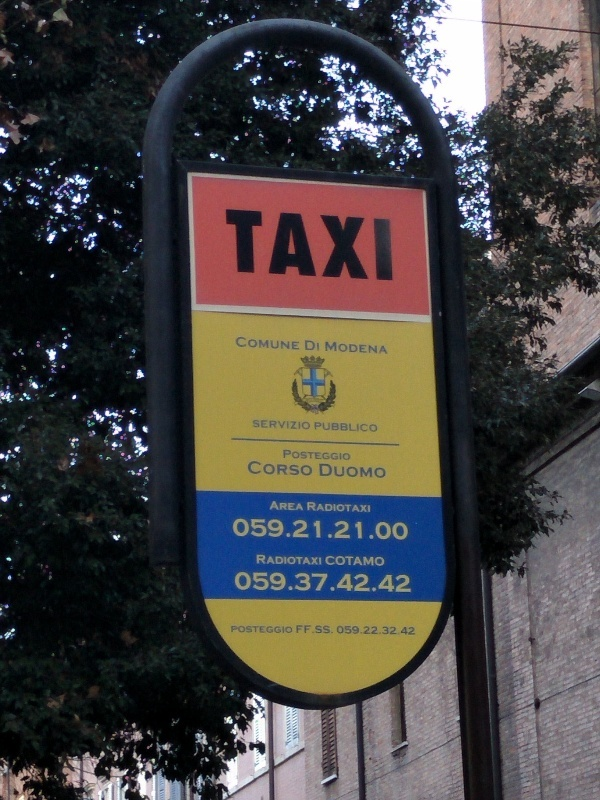text: (225, 209, 240, 283), (241, 209, 256, 283), (257, 209, 272, 283), (273, 209, 288, 283), (289, 209, 304, 283), (305, 209, 320, 283), (321, 209, 336, 283), (337, 209, 352, 283), (353, 209, 368, 283), (369, 209, 384, 283), (385, 209, 393, 283), (241, 517, 256, 541), (257, 517, 272, 541), (273, 517, 288, 541), (289, 517, 304, 541), (305, 517, 320, 541), (321, 517, 336, 541), (337, 517, 352, 541), (353, 517, 368, 541), (369, 517, 384, 541), (385, 517, 400, 541), (241, 570, 256, 593), (257, 570, 272, 593), (273, 570, 288, 593), (289, 570, 304, 593), (305, 570, 320, 593), (321, 570, 336, 593), (337, 570, 352, 593), (353, 570, 368, 593), (369, 570, 384, 593), (385, 570, 400, 593), (257, 460, 272, 476), (273, 460, 288, 476), (289, 460, 304, 476), (401, 570, 411, 593), (241, 336, 256, 350), (257, 336, 272, 350), (273, 336, 288, 350), (321, 464, 336, 478), (337, 464, 352, 478), (353, 464, 368, 478), (369, 464, 384, 478), (337, 341, 352, 354), (353, 341, 368, 354), (369, 341, 384, 354), (289, 449, 304, 461), (305, 449, 320, 461), (321, 449, 336, 461), (369, 555, 385, 566), (337, 449, 351, 461), (233, 517, 240, 541), (401, 517, 408, 541), (305, 340, 320, 351), (337, 555, 352, 566), (353, 555, 368, 566), (257, 554, 272, 565), (273, 554, 288, 565), (289, 554, 304, 565), (305, 554, 320, 565), (305, 626, 320, 637), (321, 626, 336, 637), (337, 626, 352, 637), (353, 626, 368, 637), (369, 626, 384, 637), (385, 626, 400, 637), (321, 422, 336, 432), (337, 422, 352, 432), (353, 422, 368, 432), (257, 420, 272, 430), (273, 420, 288, 430), (289, 420, 304, 430), (321, 502, 336, 512), (337, 502, 352, 512), (353, 502, 368, 512), (289, 336, 299, 350), (273, 501, 288, 510), (289, 501, 304, 510), (241, 625, 256, 634), (257, 625, 272, 634), (273, 625, 288, 634), (326, 341, 336, 354), (307, 502, 320, 512), (235, 570, 240, 593), (249, 460, 256, 476), (305, 460, 312, 476), (326, 555, 336, 566), (231, 625, 240, 634), (369, 422, 377, 432), (297, 626, 304, 637), (283, 449, 288, 461), (236, 336, 240, 350), (315, 422, 320, 432), (305, 420, 310, 430), (401, 626, 405, 637), (385, 341, 388, 354), (253, 420, 256, 430), (289, 625, 292, 634), (385, 464, 386, 478), (321, 554, 322, 565), (369, 502, 370, 512)
